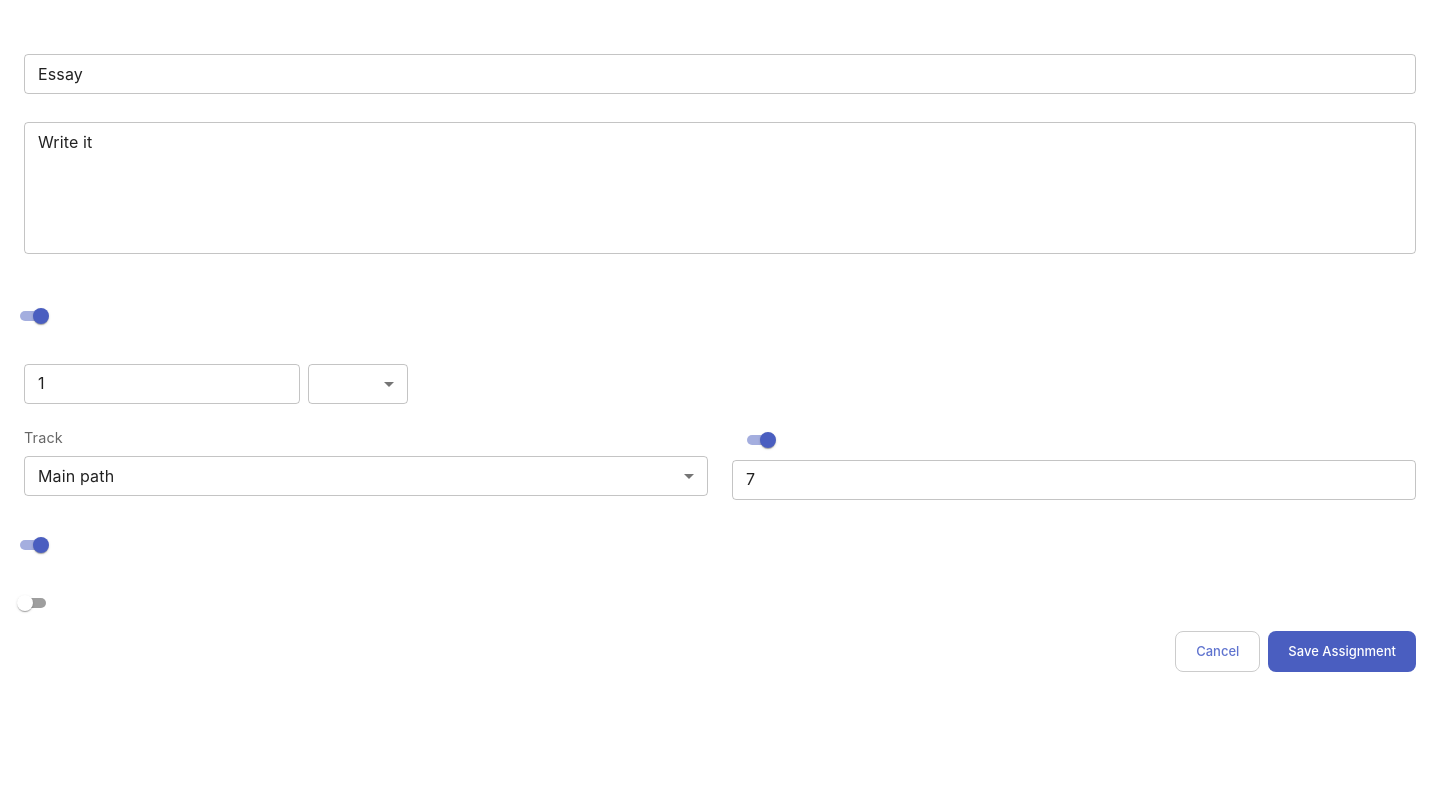
Test: choosing a track on the content forms › shows why the server refused to move an assignment
The width and height of the screenshot is (1440, 810).
Click the dropdown named "Track". click: (76, 476)
box: left=38, top=466, right=114, bottom=486
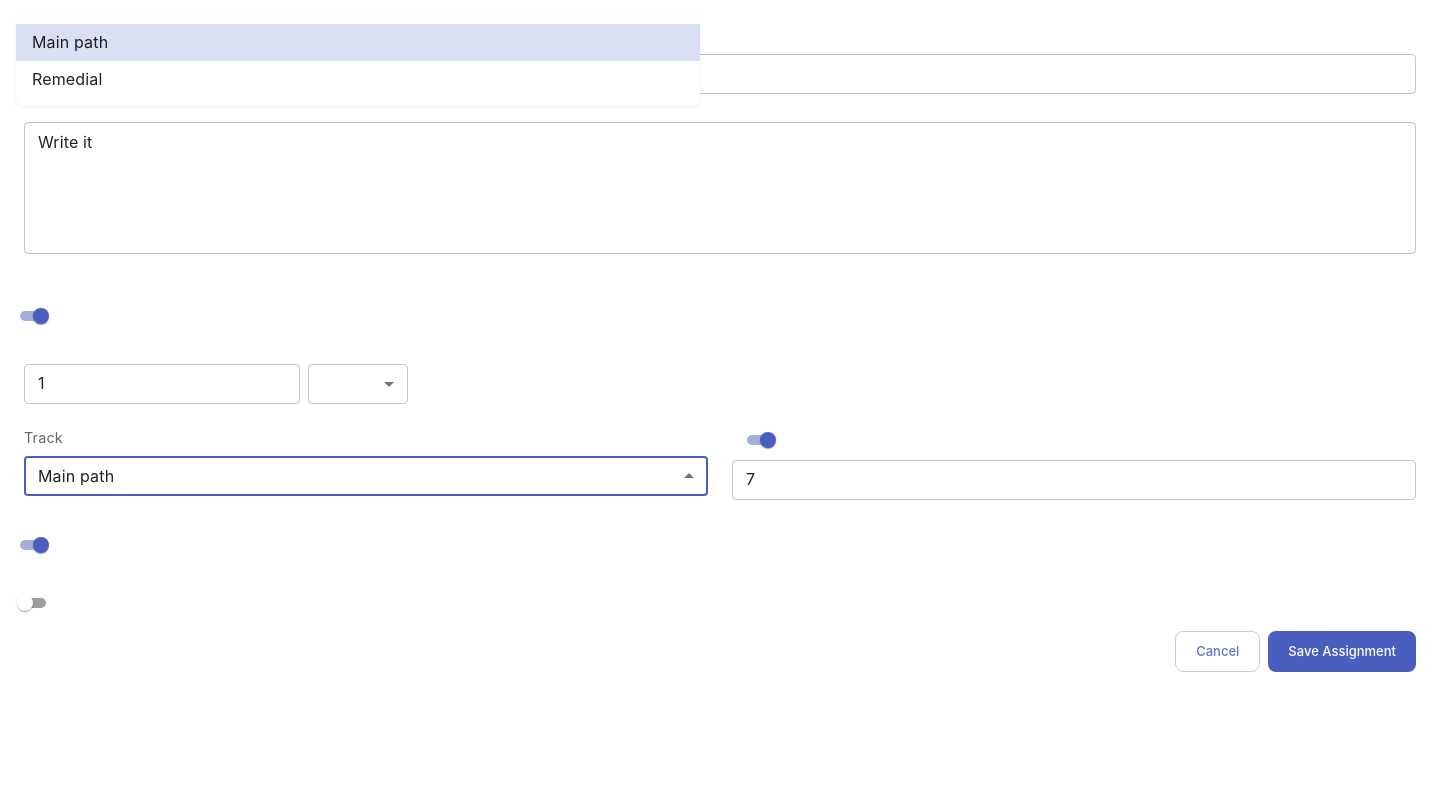
Click the option "Remedial". click: (67, 79)
box: left=32, top=69, right=102, bottom=89
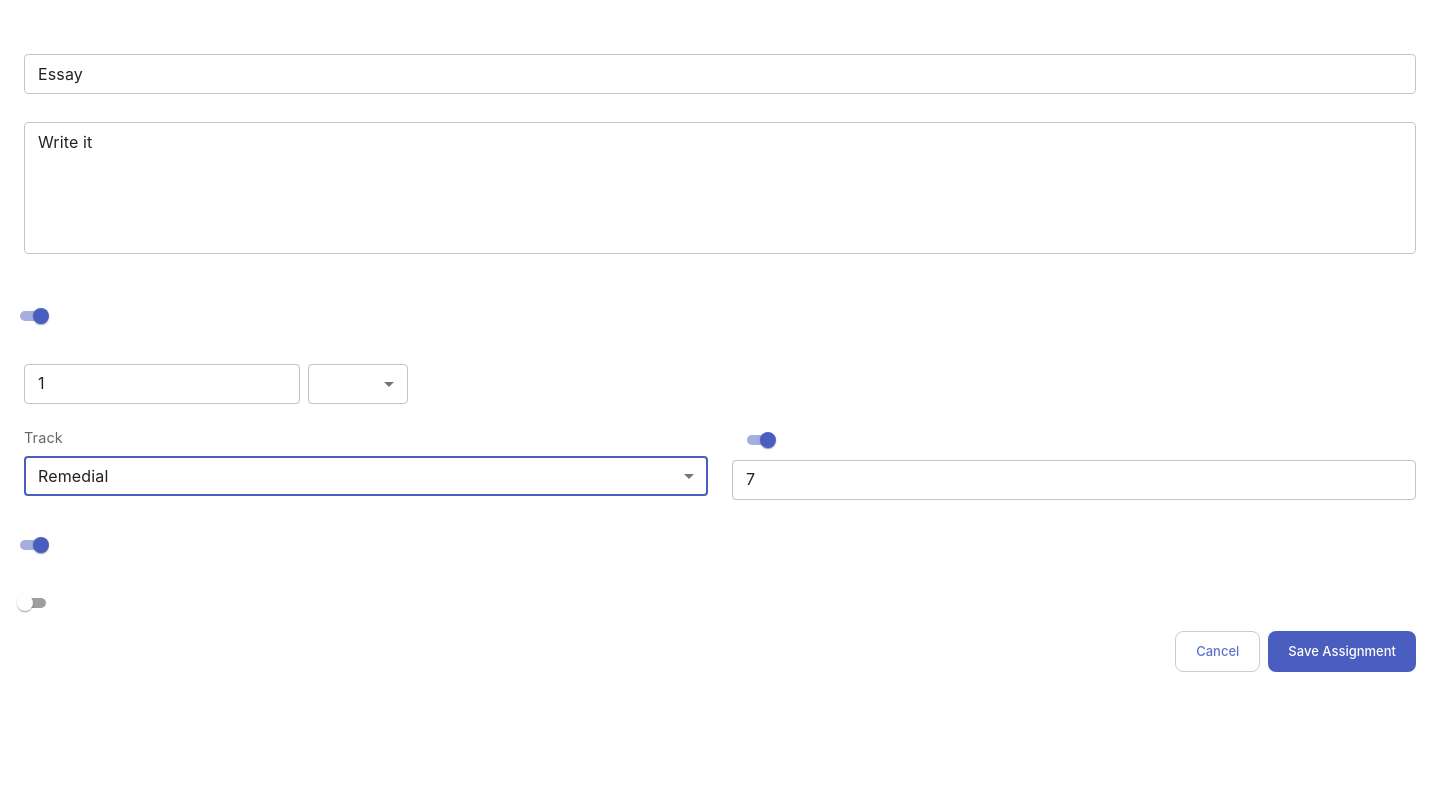
Click the button "Save Assignment". click: (1342, 651)
box: left=1268, top=631, right=1416, bottom=672
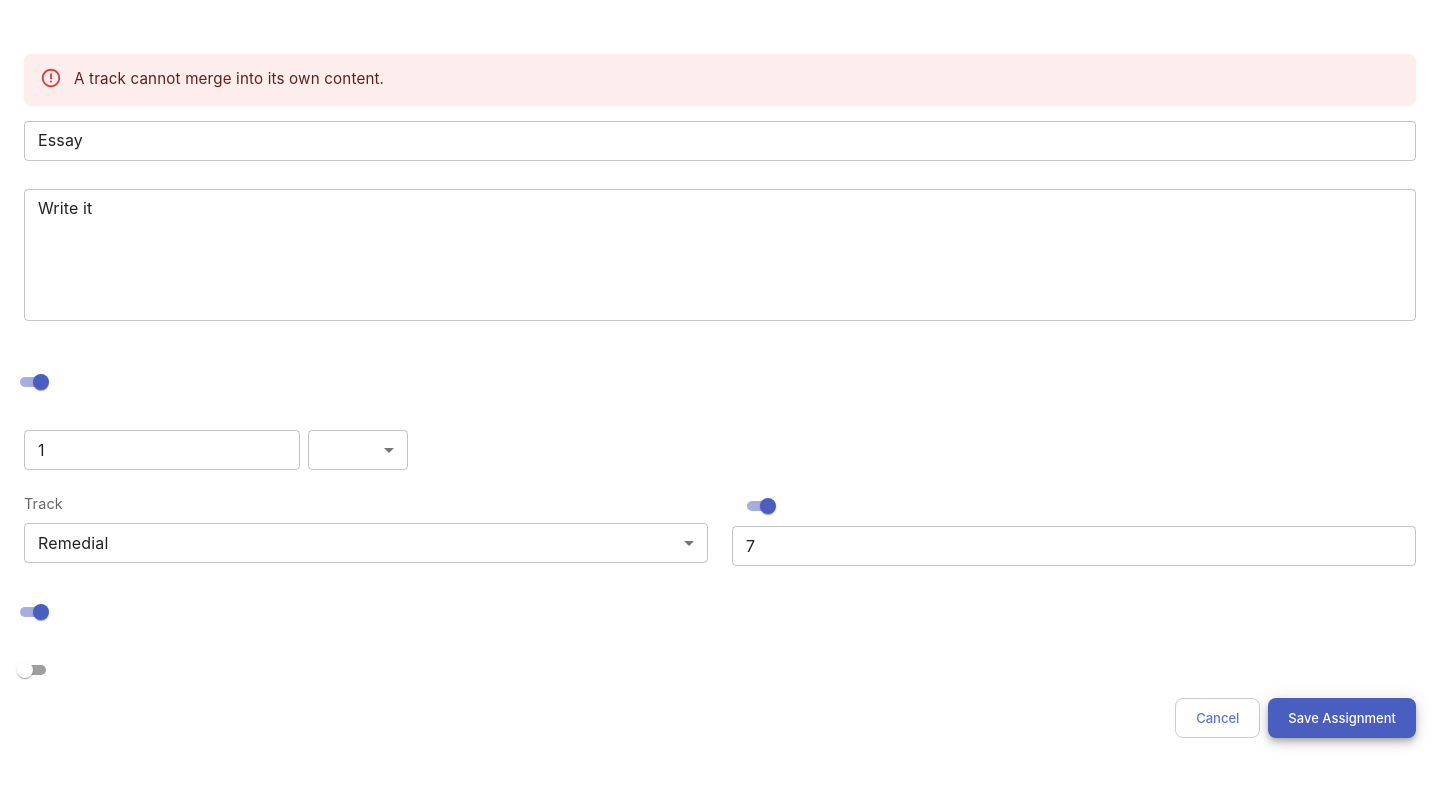
Now the text "A track cannot merge into its own content." is shown, box left=74, top=69, right=384, bottom=88
